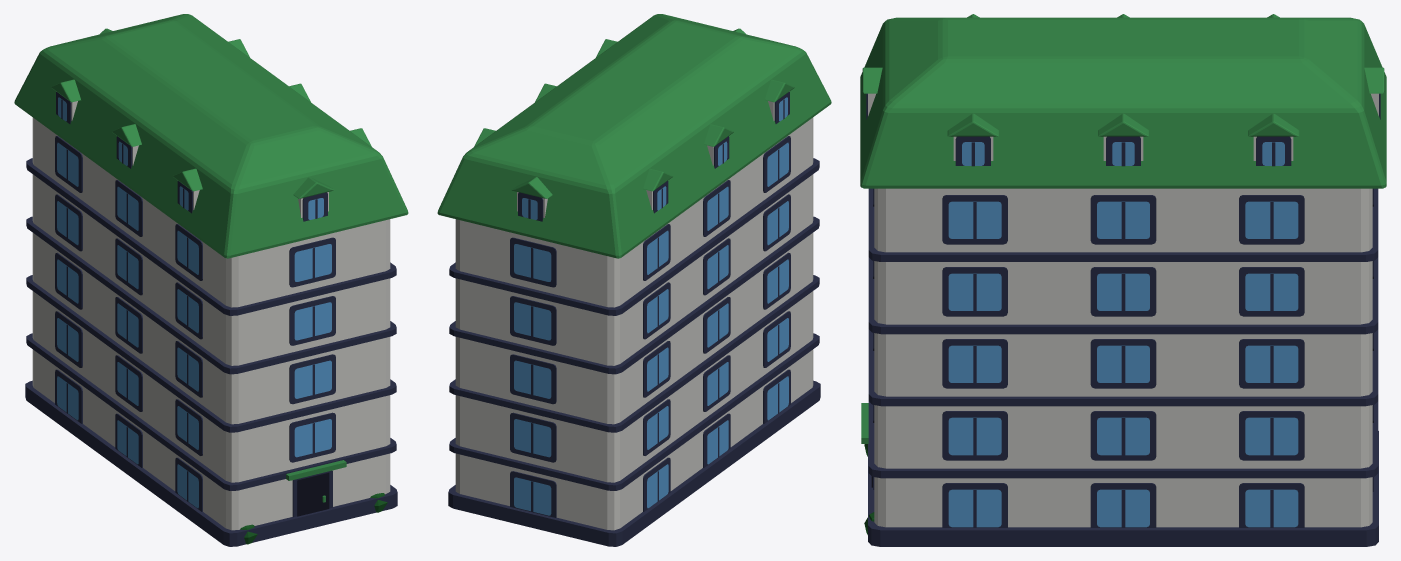
File: house-1x2-5f-mansard-a.glb
The picture shows the model from 3 angles, left to right: view 1: azimuth 30°, elevation 25°; view 2: azimuth 150°, elevation 25°; view 3: azimuth 270°, elevation 25°; orthographic projection. The views are drawn at different scales.
Visible parts, largest first — view 1: house-1x2-5f-mansard-a; view 2: house-1x2-5f-mansard-a; view 3: house-1x2-5f-mansard-a.
Boxes of the visible parts, x1,y1,x2,y2 form: house-1x2-5f-mansard-a: (14,14,408,546); house-1x2-5f-mansard-a: (437,14,831,546); house-1x2-5f-mansard-a: (860,14,1386,546).
Bounding box in the file's own units: 0.9876 × 1.9 × 1.99.
1 material, 1 textured.
